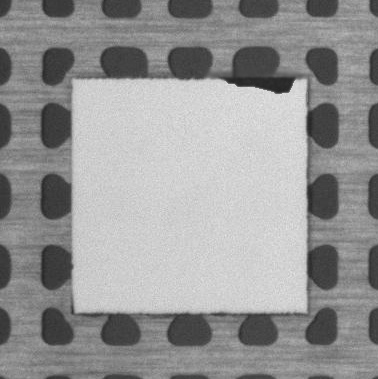DIE_BROKEN: (217, 75, 301, 93)
